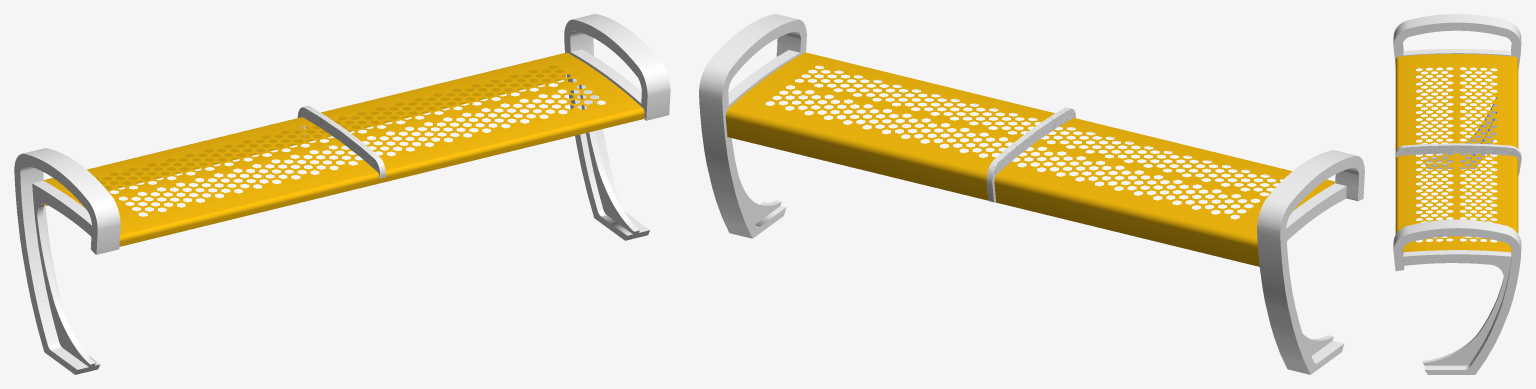
3 views of the same model, side by side, from view 1: azimuth 30°, elevation 25°; view 2: azimuth 150°, elevation 25°; view 3: azimuth 270°, elevation 25° (orthographic). The views are drawn at different scales.
Visible parts, largest first — view 1: mesh2_mesh2-geometry, mesh4_mesh4-geometry, mesh1_mesh1-geometry, mesh5_mesh5-geometry; view 2: mesh2_mesh2-geometry, mesh4_mesh4-geometry, mesh1_mesh1-geometry, mesh5_mesh5-geometry; view 3: mesh2_mesh2-geometry, mesh1_mesh1-geometry, mesh4_mesh4-geometry, mesh5_mesh5-geometry.
Part boxes in pixels (left/top/right/bottom): mesh2_mesh2-geometry: left=43, top=52, right=644, bottom=246; mesh4_mesh4-geometry: left=14, top=148, right=120, bottom=374; mesh1_mesh1-geometry: left=564, top=14, right=670, bottom=240; mesh5_mesh5-geometry: left=297, top=106, right=385, bottom=178; mesh2_mesh2-geometry: left=725, top=52, right=1335, bottom=266; mesh4_mesh4-geometry: left=1257, top=150, right=1364, bottom=374; mesh1_mesh1-geometry: left=699, top=14, right=806, bottom=238; mesh5_mesh5-geometry: left=986, top=107, right=1075, bottom=202; mesh2_mesh2-geometry: left=1395, top=54, right=1518, bottom=252; mesh1_mesh1-geometry: left=1393, top=219, right=1521, bottom=374; mesh4_mesh4-geometry: left=1393, top=14, right=1521, bottom=169; mesh5_mesh5-geometry: left=1395, top=143, right=1521, bottom=175.
Bounding box in the file's own units: 0.926 × 0.2962 × 0.2341.
